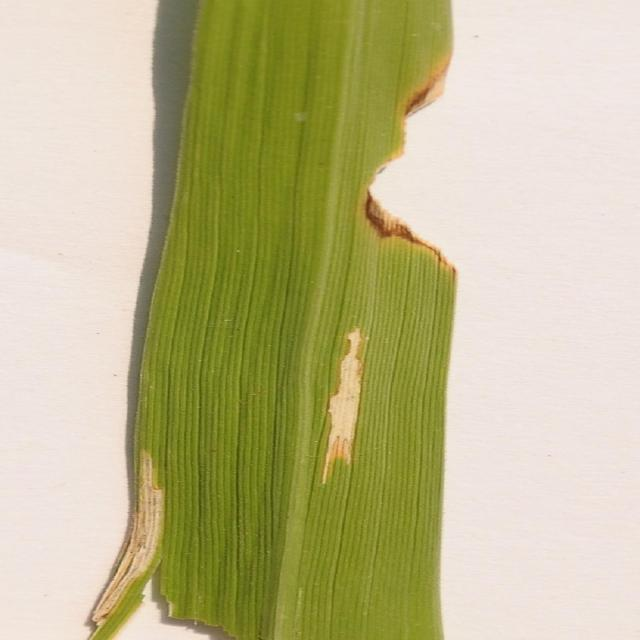leaf blight: (68, 444, 199, 628), (360, 59, 448, 255), (308, 277, 385, 497)
